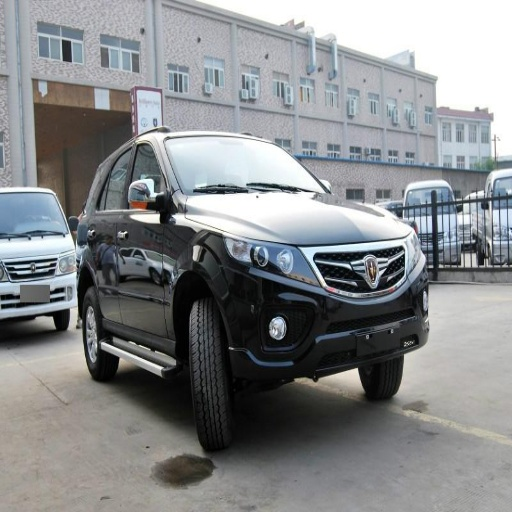front_bumper: (219, 234, 428, 374)
front_right_door: (119, 136, 169, 336)
front_right_light: (226, 237, 310, 281)
